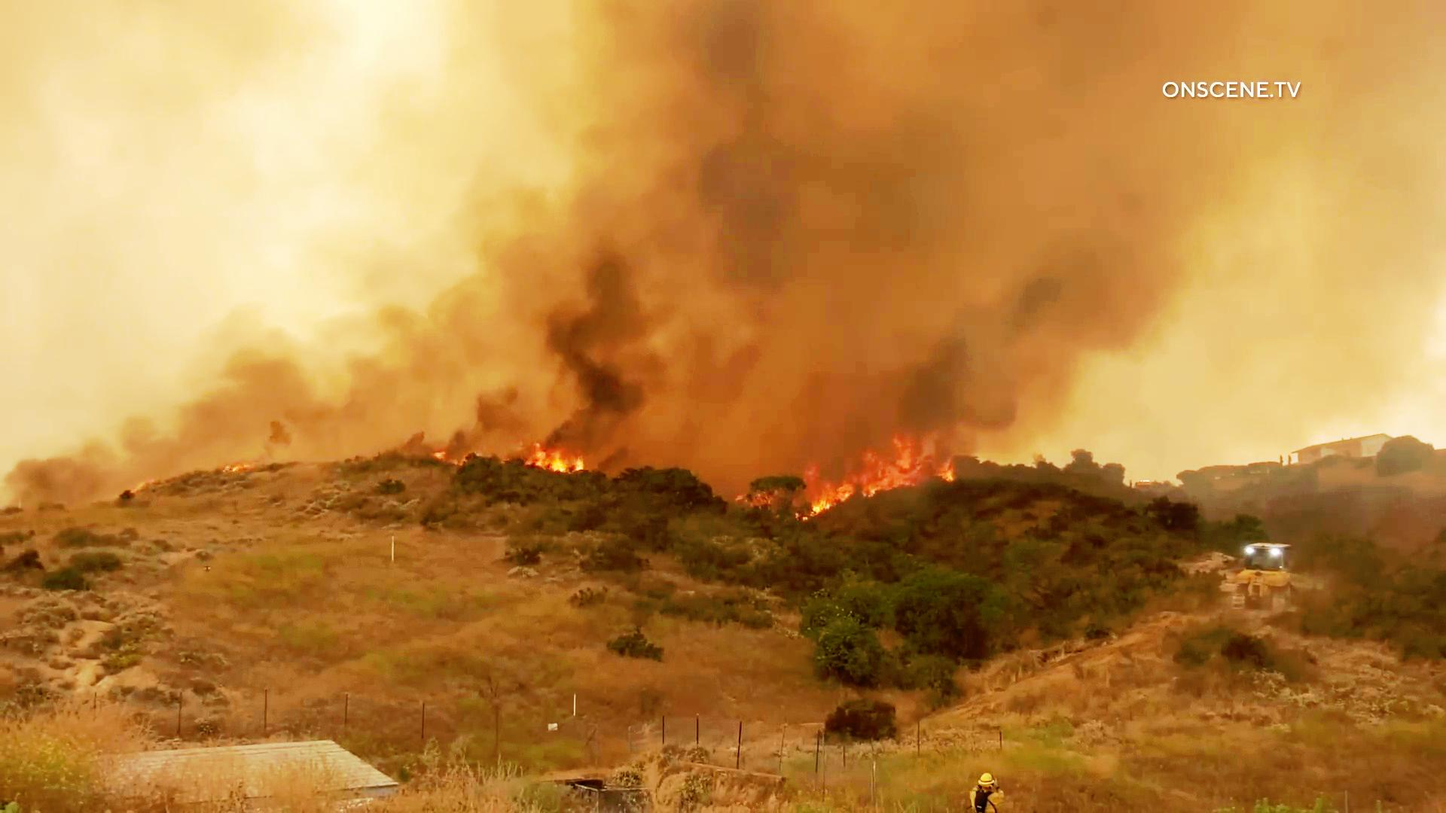fire: (507, 416, 584, 493), (885, 431, 966, 497)
smoke: (473, 119, 1078, 429)
